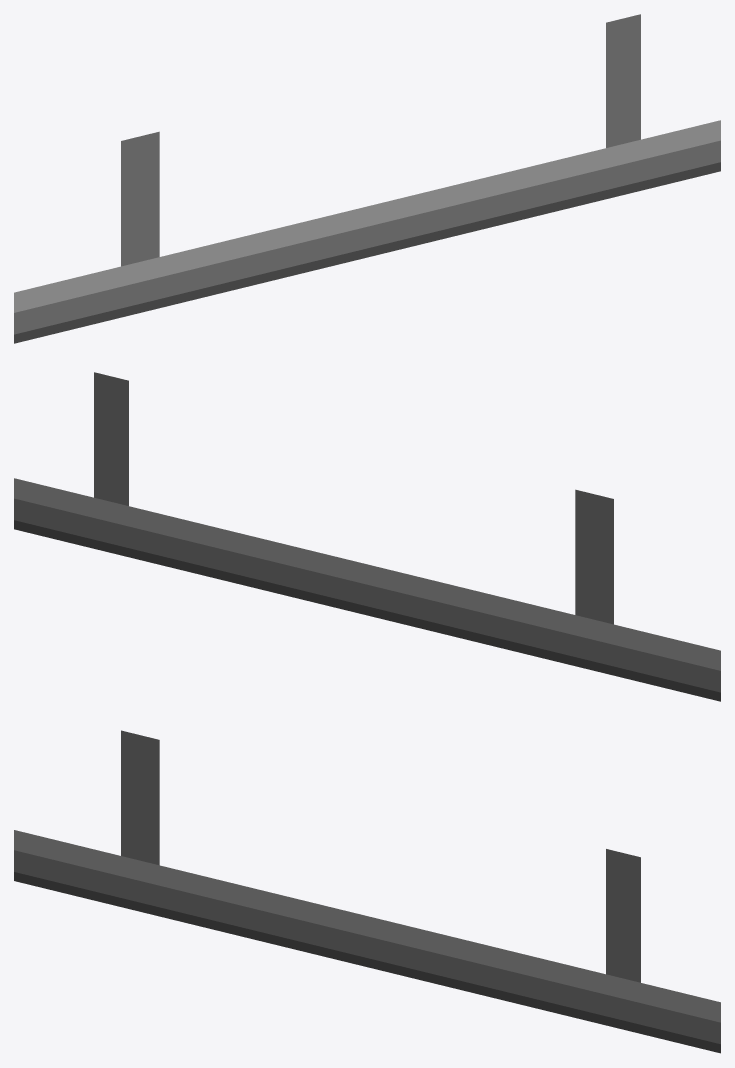
The model's file is ragholder.FBX.
3 views of the same model, one above another, from view 1: azimuth 30°, elevation 25°; view 2: azimuth 150°, elevation 25°; view 3: azimuth 330°, elevation 25° (orthographic).
Parts seen in each view (by area): view 1: ragholder; view 2: ragholder; view 3: ragholder.
Part boxes in pixels (bbox=[...]): ragholder: bbox=[14, 14, 720, 343]; ragholder: bbox=[14, 372, 720, 701]; ragholder: bbox=[14, 730, 720, 1053].
Bounding box in the file's own units: 89.12 × 21.28 × 9.3e-07.
Materials: 1 (1 with a texture image).
